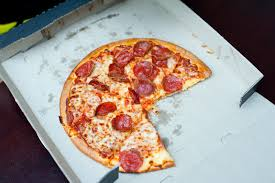pizza: (59, 40, 207, 169)
